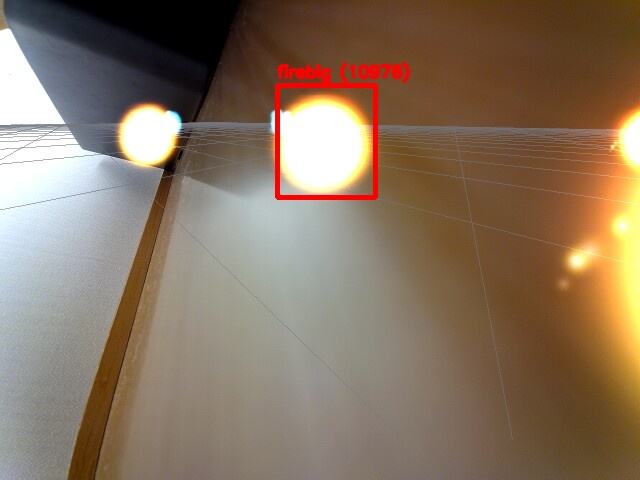firebig: (277, 85, 375, 197)
